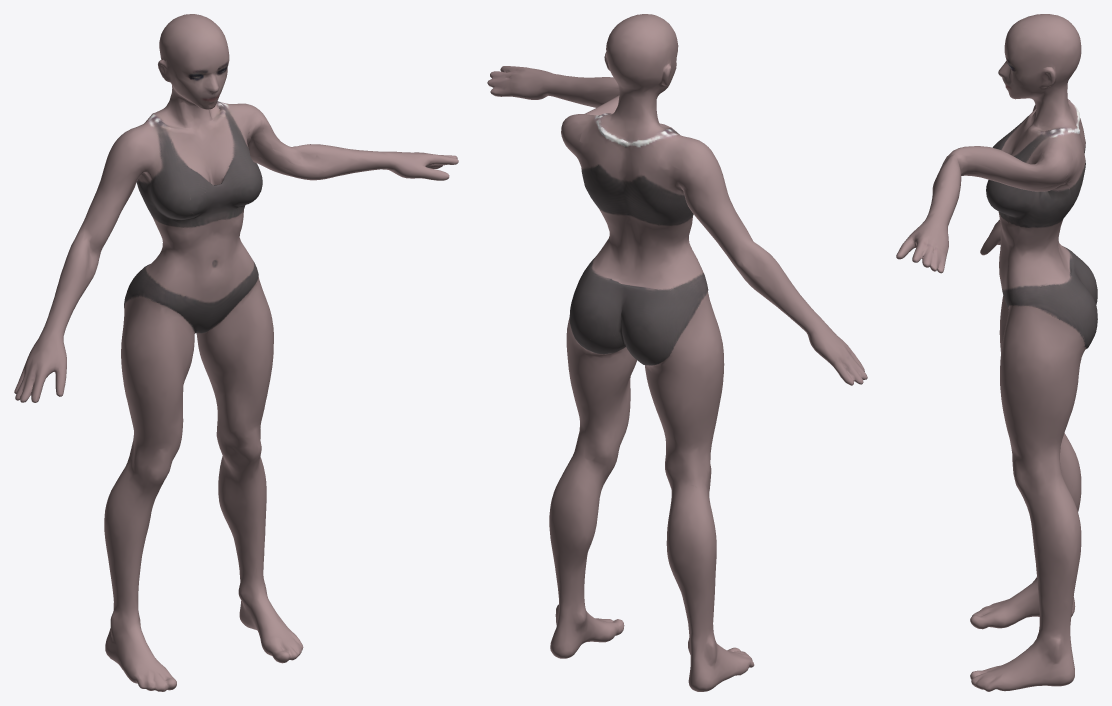
File: 21-UpperArmR-90-child90-twist0-baseline.glb
3 views of the same model, side by side, from view 1: azimuth 30°, elevation 25°; view 2: azimuth 150°, elevation 25°; view 3: azimuth 270°, elevation 25° (orthographic). The views are drawn at different scales.
Visible parts, largest first — view 1: baseline; view 2: baseline; view 3: baseline.
Boxes of the visible parts, x1,y1,x2,y2 form: baseline: (14, 14, 458, 691); baseline: (487, 14, 867, 691); baseline: (896, 14, 1097, 691).
Size of the model in its own units: 0.665 by 1 by 0.2871.
1 material, 1 textured.
